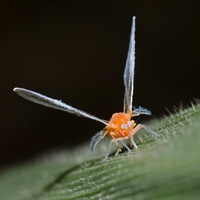insect: (13, 16, 159, 159)
